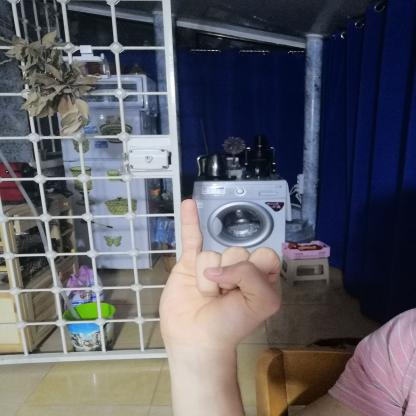MEEM: (142, 189, 301, 357)
